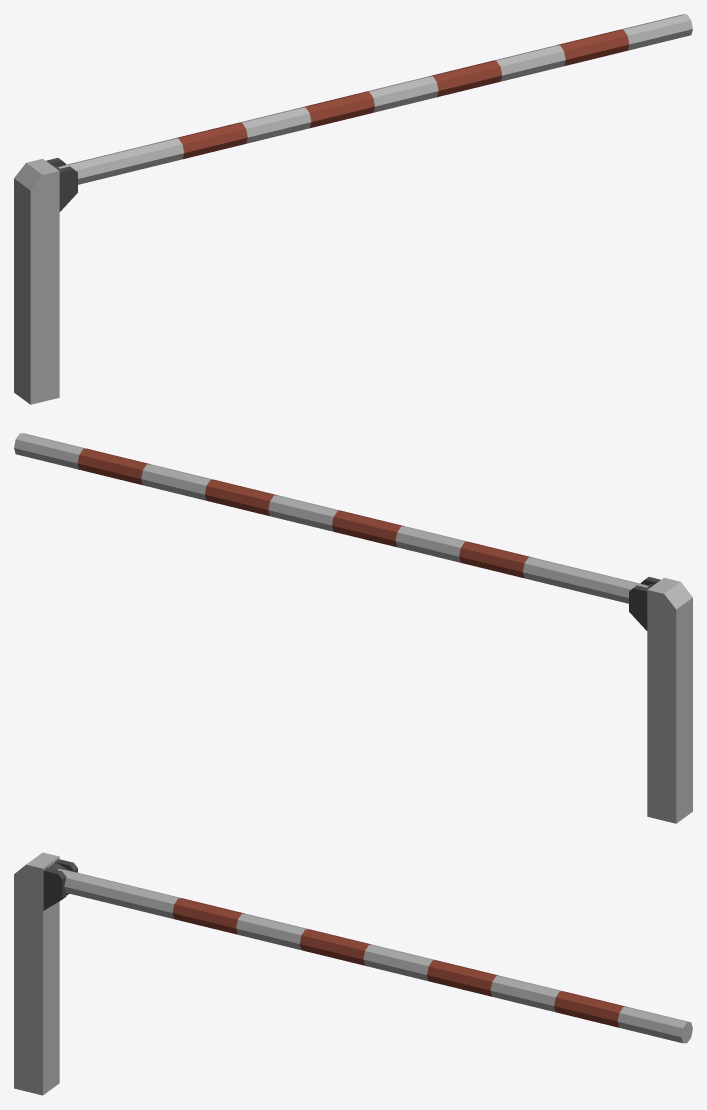
File: checkpointStop1.fbx
The picture shows the model from 3 angles, top to bottom: view 1: azimuth 30°, elevation 25°; view 2: azimuth 150°, elevation 25°; view 3: azimuth 330°, elevation 25°; orthographic projection.
Visible parts, largest first — view 1: Cube.001, Cube; view 2: Cube.001, Cube; view 3: Cube.001, Cube.
Part boxes in pixels (bbox=[...]): Cube.001: bbox=[58, 14, 692, 184]; Cube: bbox=[14, 158, 77, 404]; Cube.001: bbox=[14, 433, 648, 603]; Cube: bbox=[629, 577, 692, 823]; Cube.001: bbox=[58, 869, 692, 1043]; Cube: bbox=[14, 852, 77, 1095].
Bounding box in the file's own units: 460 × 150 × 20.
